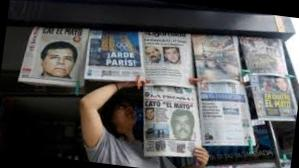Kertas: (13, 12, 93, 91), (144, 76, 213, 162)
